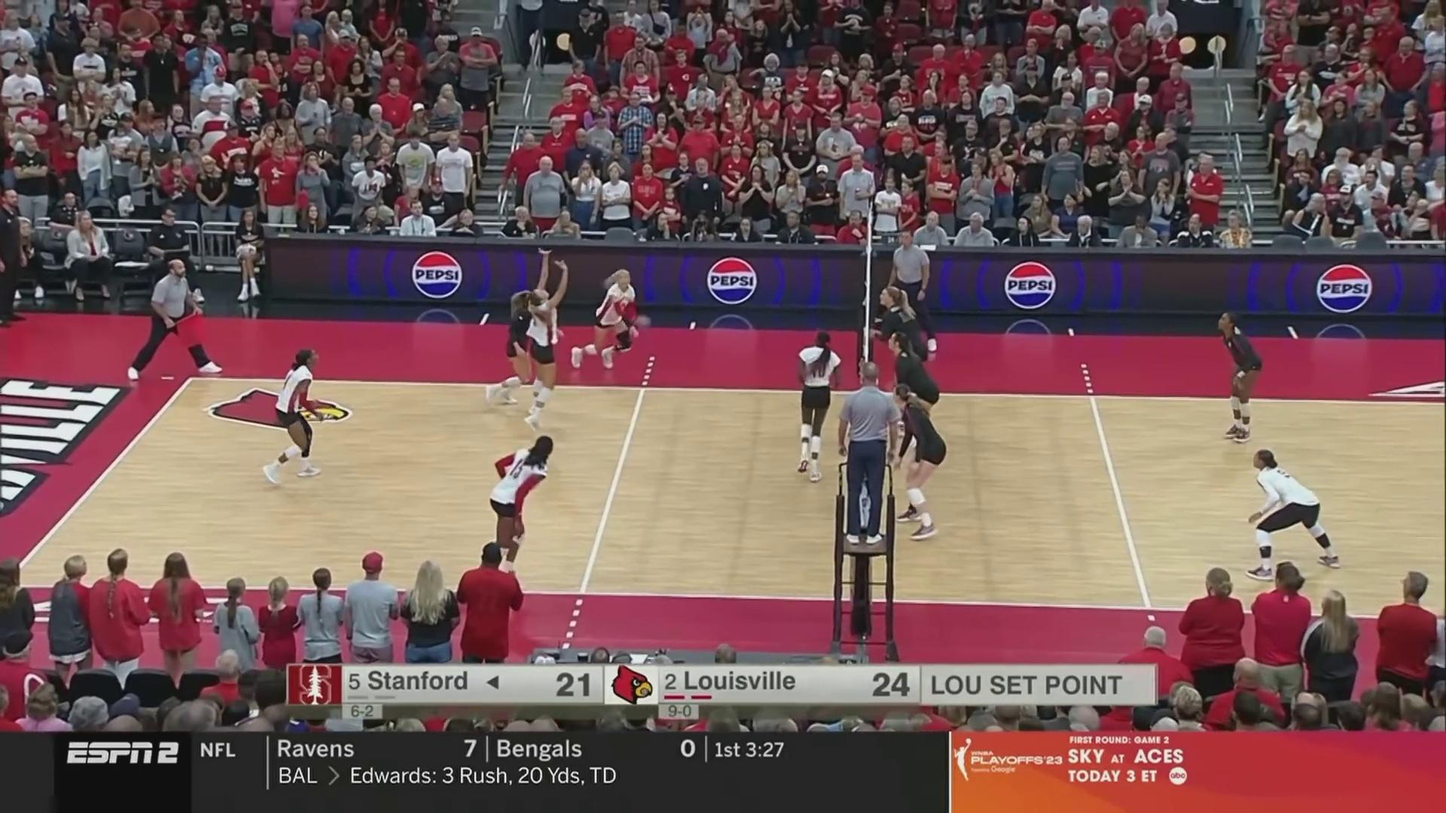player: (471, 429, 555, 587), (259, 350, 348, 484), (1247, 453, 1342, 575), (890, 375, 953, 543), (877, 285, 946, 418), (877, 329, 942, 469), (568, 269, 644, 379), (524, 253, 570, 427), (792, 333, 846, 481), (1215, 309, 1268, 440), (482, 285, 537, 410)
refree: (834, 356, 898, 546), (133, 257, 222, 379), (888, 228, 938, 352)
